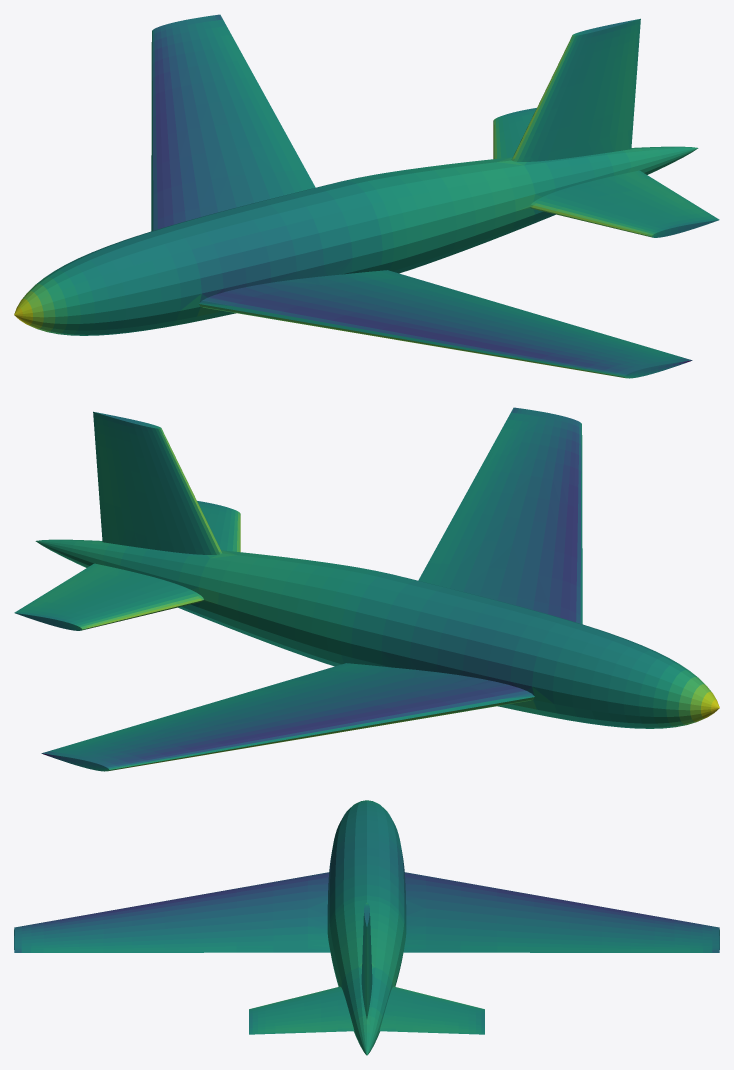
The model's file is case_1.glb.
3 views of the same model, one above another, from view 1: azimuth 30°, elevation 25°; view 2: azimuth 150°, elevation 25°; view 3: azimuth 270°, elevation 25° (orthographic). The views are drawn at different scales.
Visible parts, largest first — view 1: Shape_IndexedFaceSet; view 2: Shape_IndexedFaceSet; view 3: Shape_IndexedFaceSet.
Part boxes in pixels (left/top/right/bottom): Shape_IndexedFaceSet: left=14, top=14, right=719, bottom=378; Shape_IndexedFaceSet: left=14, top=407, right=719, bottom=771; Shape_IndexedFaceSet: left=14, top=800, right=719, bottom=1055.
Bounding box in the file's own units: 10 × 2.67 × 11.96.
